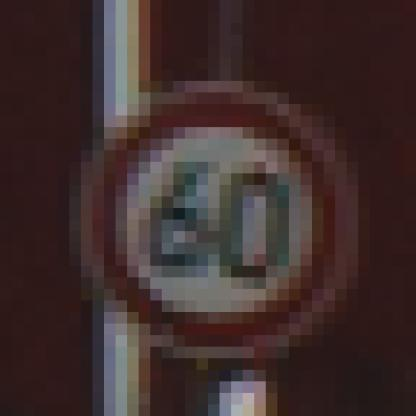Speed Limit 60: (93, 92, 340, 348)
